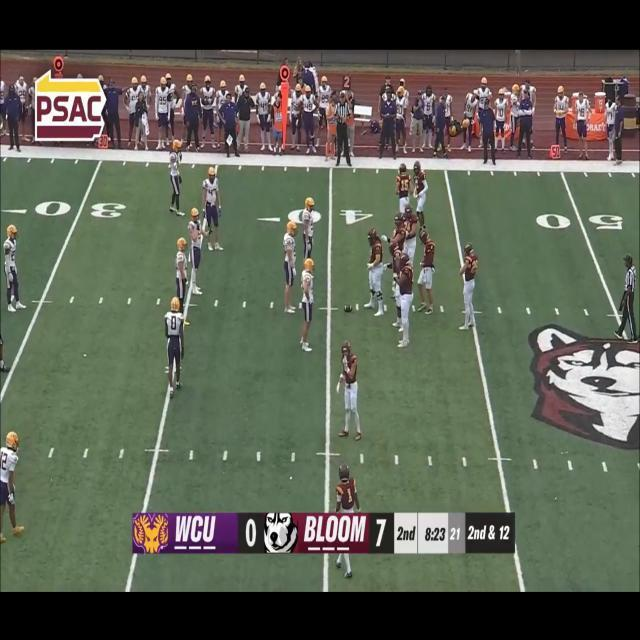football: (344, 304, 354, 314)
